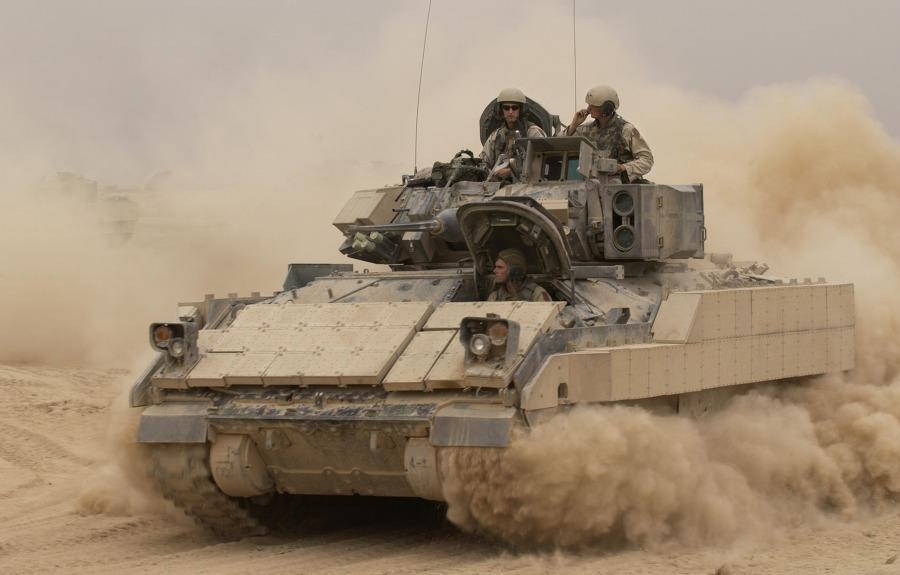MIL_IFV: (121, 84, 857, 544)
